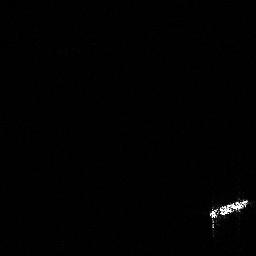ship: (205, 195, 251, 234)
